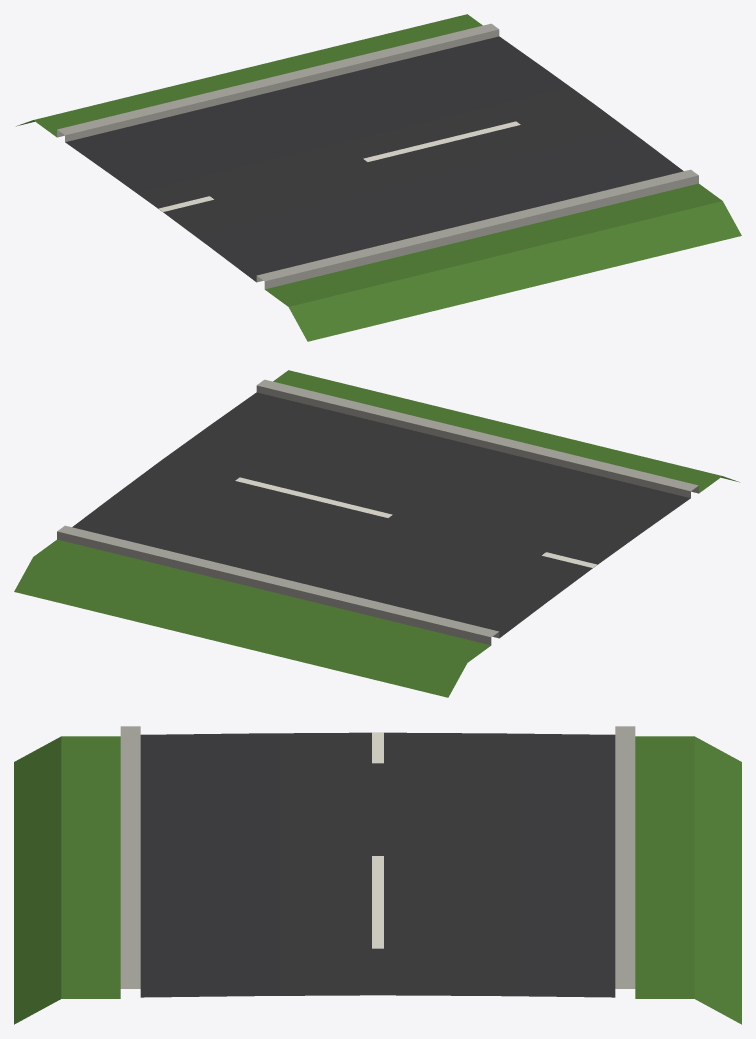
File: road_straight_edge.glb
3 views of the same model, one above another, from view 1: azimuth 30°, elevation 25°; view 2: azimuth 150°, elevation 25°; view 3: azimuth 270°, elevation 25° (orthographic). The views are drawn at different scales.
Visible parts, largest first — view 1: road_straight_edge_lod0; view 2: road_straight_edge_lod0; view 3: road_straight_edge_lod0.
Part boxes in pixels (x1,y1,x2,y2): road_straight_edge_lod0: [16, 14, 741, 341]; road_straight_edge_lod0: [14, 370, 739, 697]; road_straight_edge_lod0: [14, 726, 741, 1024].
Size of what is drawn, in the model's own units: 7.86 by 0.5 by 9.2.
